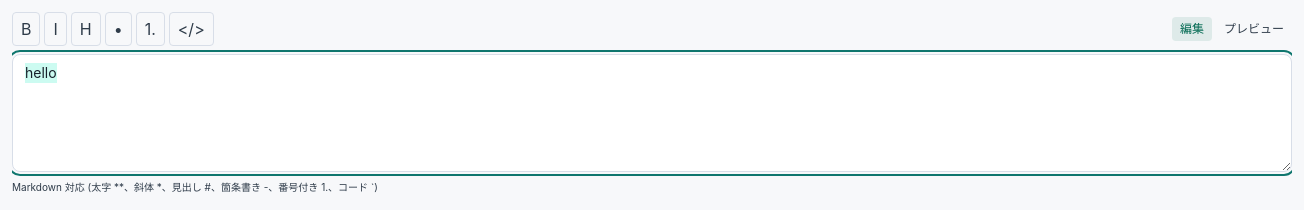
Test: MarkdownEditor › 太字ボタンは選択範囲を ** で囲む
Click the button named "太字": (26,29) [12, 12, 40, 46]
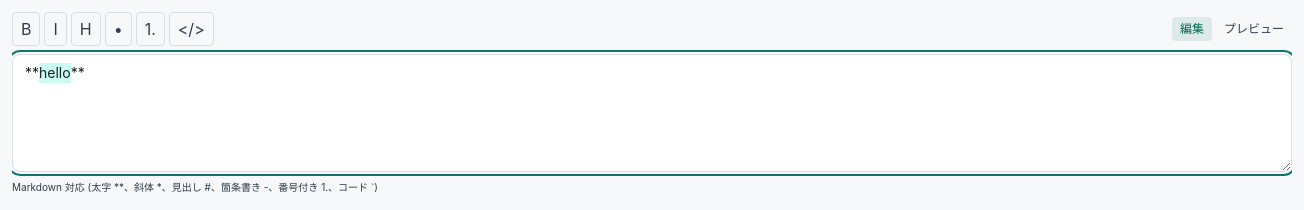
Now the text box named "本文" holds "**hello**", box [12, 54, 1292, 172]
